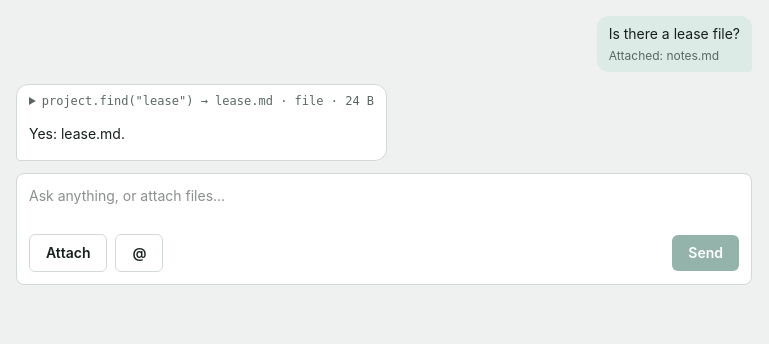
Test case: Adding files already in the project › sending with the button closes a list left open
Expected: the text "Yes: lease.md." is shown, [29,125,125,142]
In the text box named "Message": point(384, 206) [29,186,739,226], type "see @lea"
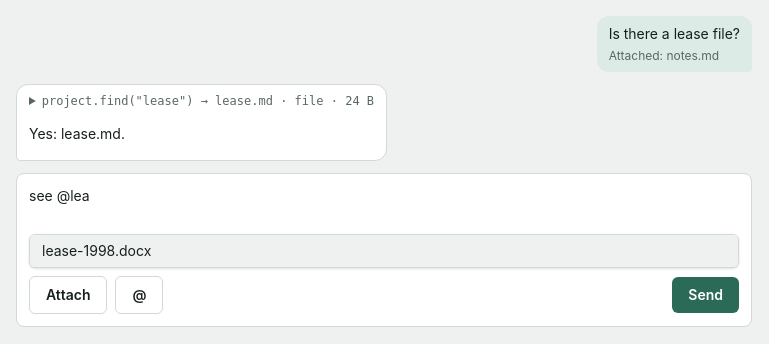
Click the button "Send": point(706, 295) [672,277,739,313]
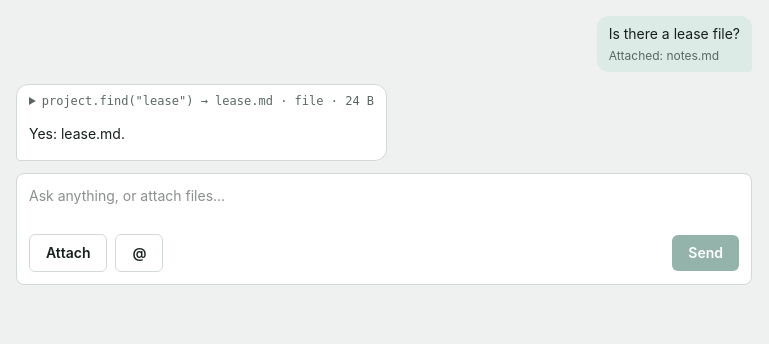
Now the list is gone
